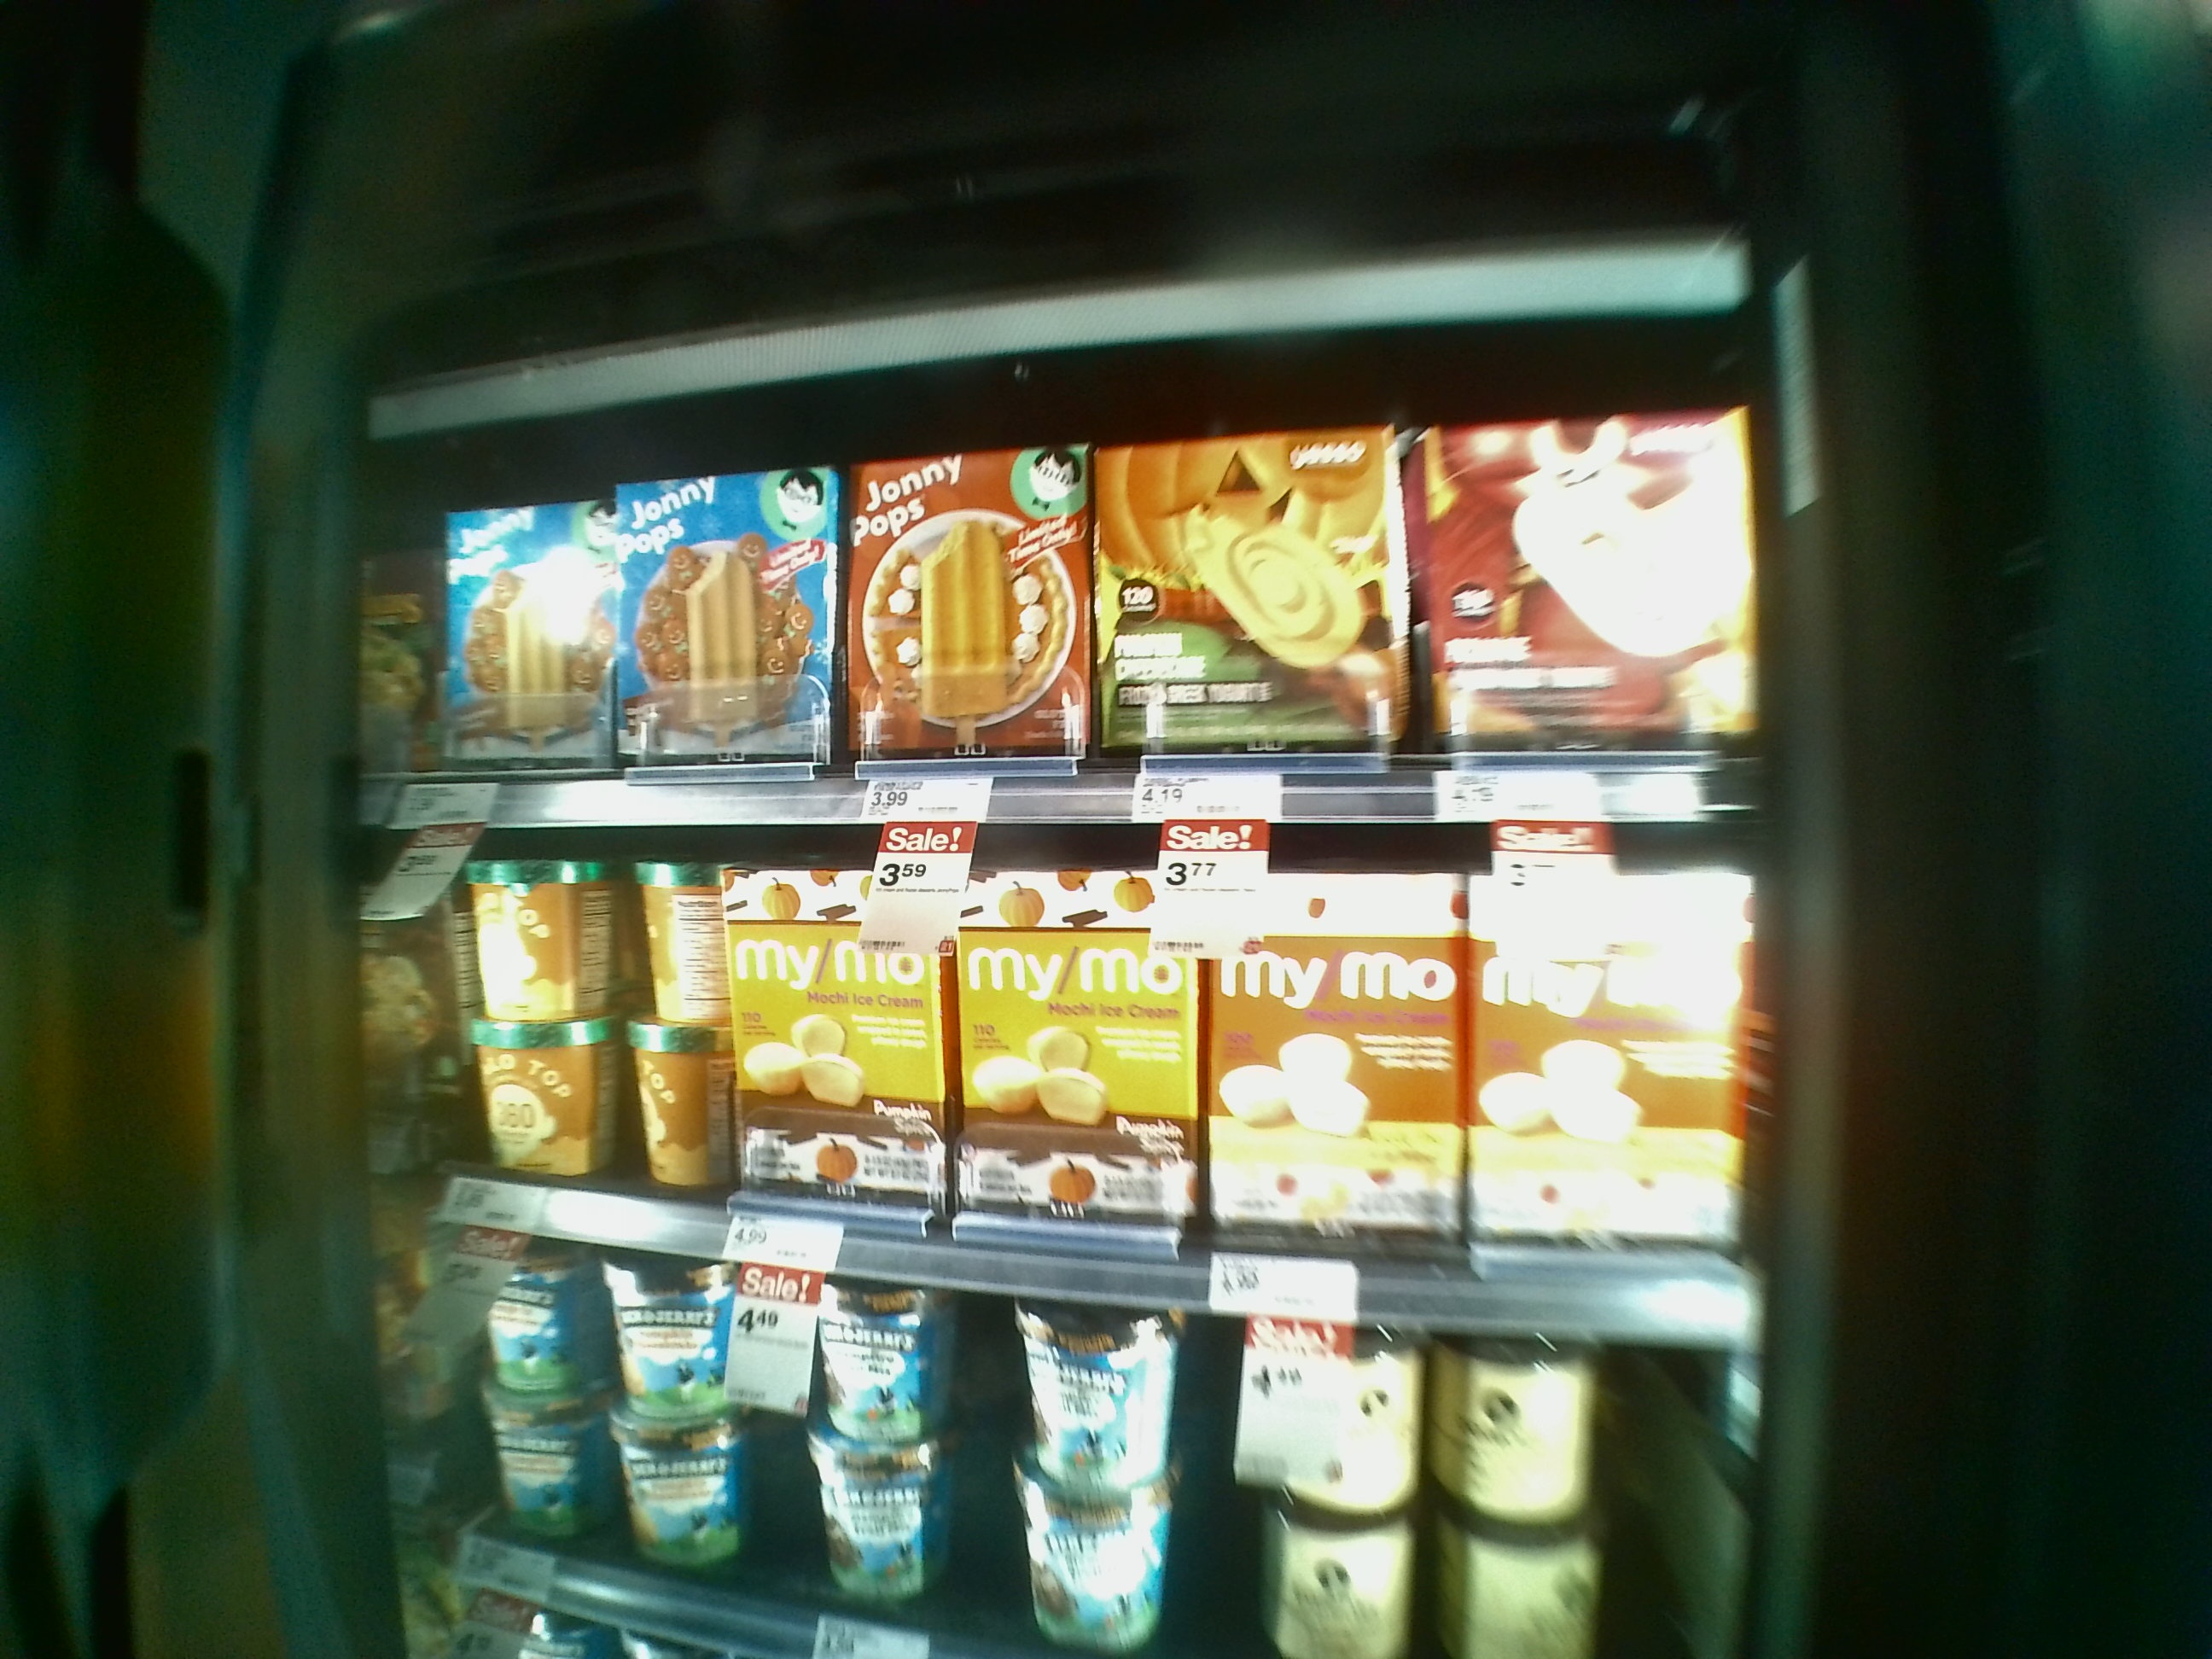shelf: (371, 784, 1773, 1321), (361, 373, 1778, 803)
